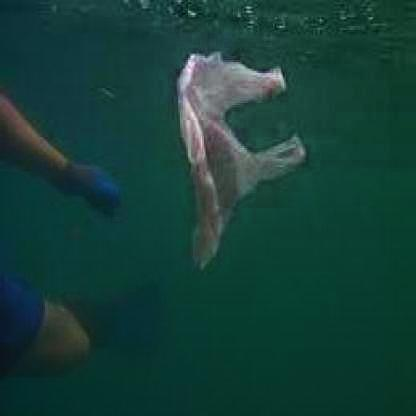pbag: (168, 45, 310, 277)
